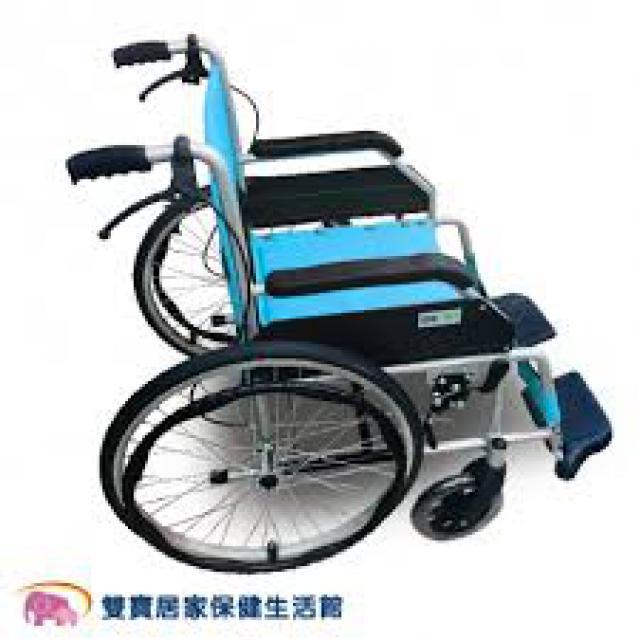wheelchair: (46, 28, 614, 566)
